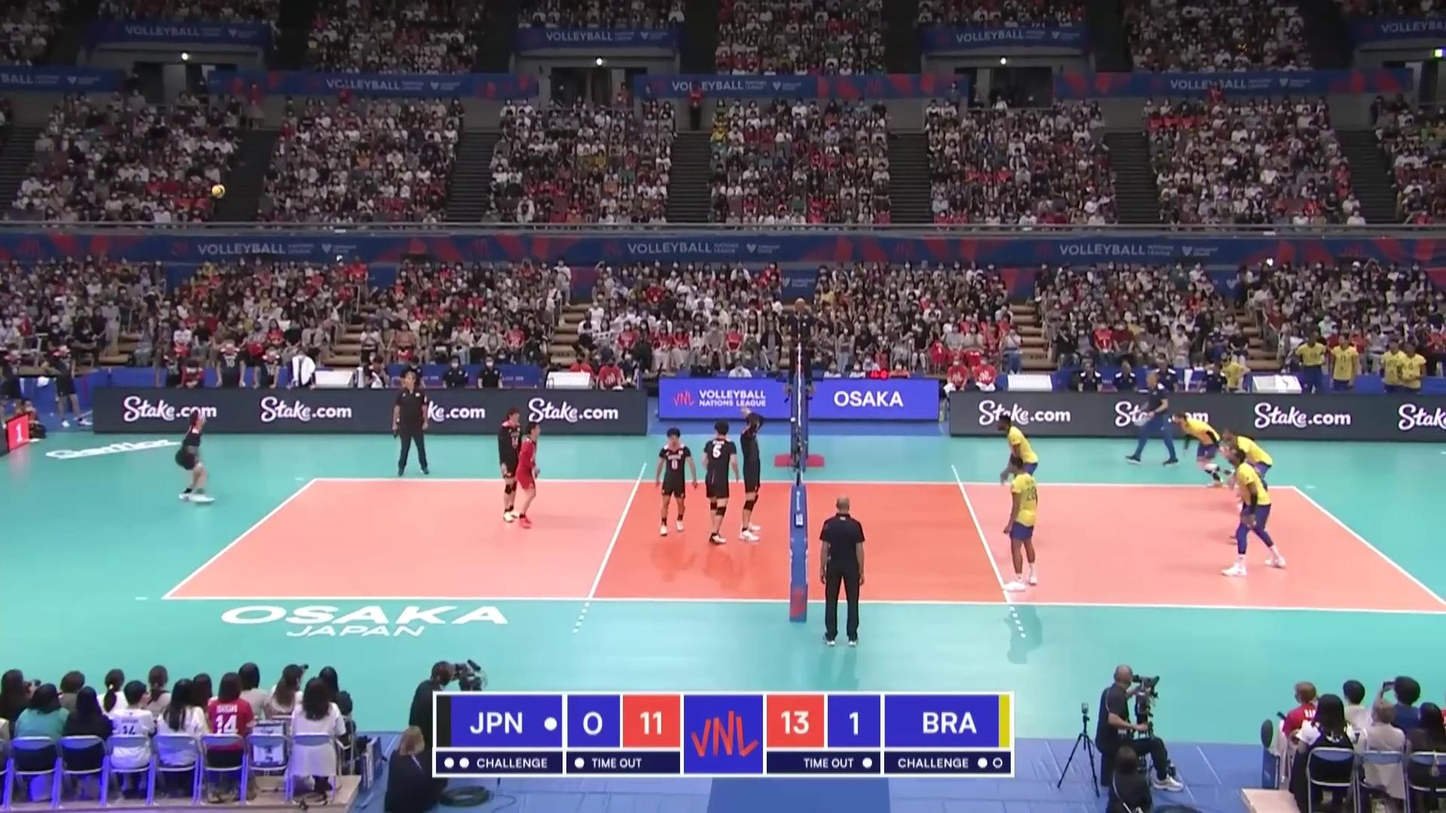player: (1222, 452, 1284, 579), (1172, 412, 1242, 490), (1218, 426, 1282, 510), (701, 420, 740, 545), (653, 427, 695, 536), (995, 417, 1047, 503), (1005, 457, 1038, 592), (1225, 445, 1270, 543), (736, 407, 766, 544), (494, 408, 529, 521), (176, 407, 212, 503), (515, 421, 542, 531)
refree: (814, 497, 867, 644), (781, 298, 820, 402)
